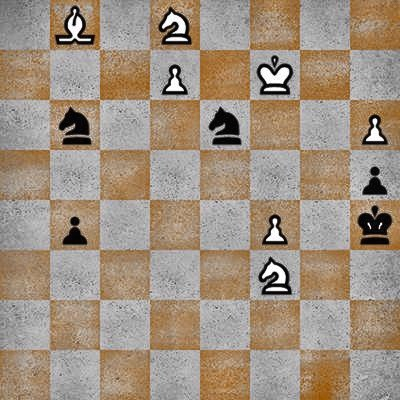black-king: (350, 200, 400, 250)
black-knight: (50, 100, 100, 150), (200, 100, 250, 150)
black-pawn: (350, 150, 400, 200), (50, 200, 100, 250)
white-bishop: (50, 0, 100, 50)
white-king: (250, 50, 300, 100)
white-knight: (150, 0, 200, 50), (250, 250, 300, 300)
white-pawn: (150, 50, 200, 100), (350, 100, 400, 150), (250, 200, 300, 250)
